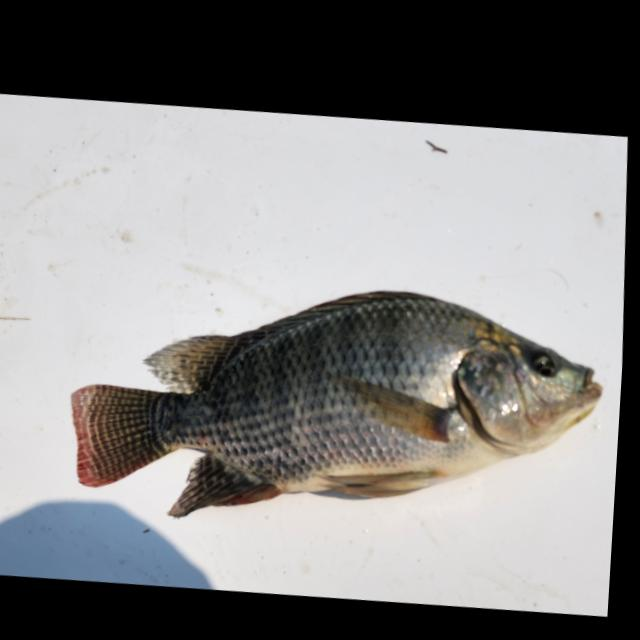Tilapia: (61, 248, 612, 563)
